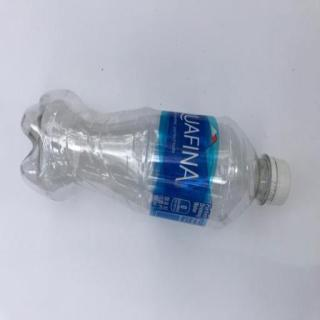Plastic-bottle: (20, 88, 294, 234)
